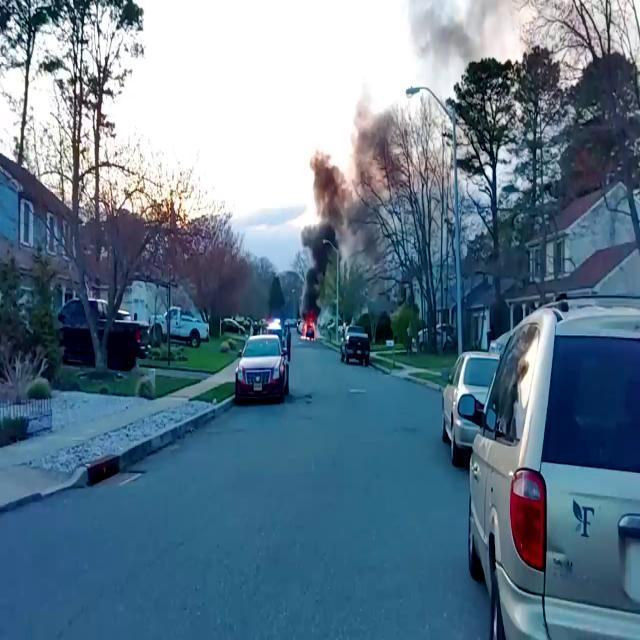Fire: (300, 317, 316, 345)
Smoke: (300, 151, 344, 307)
